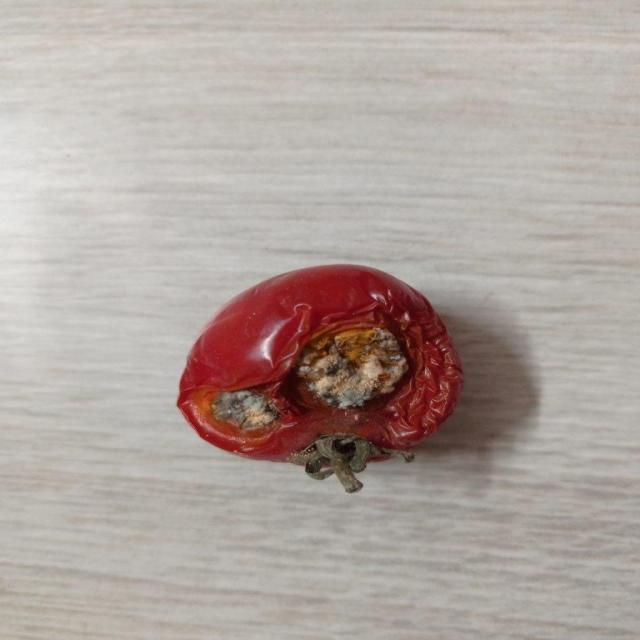Rotten: (179, 264, 462, 489)
